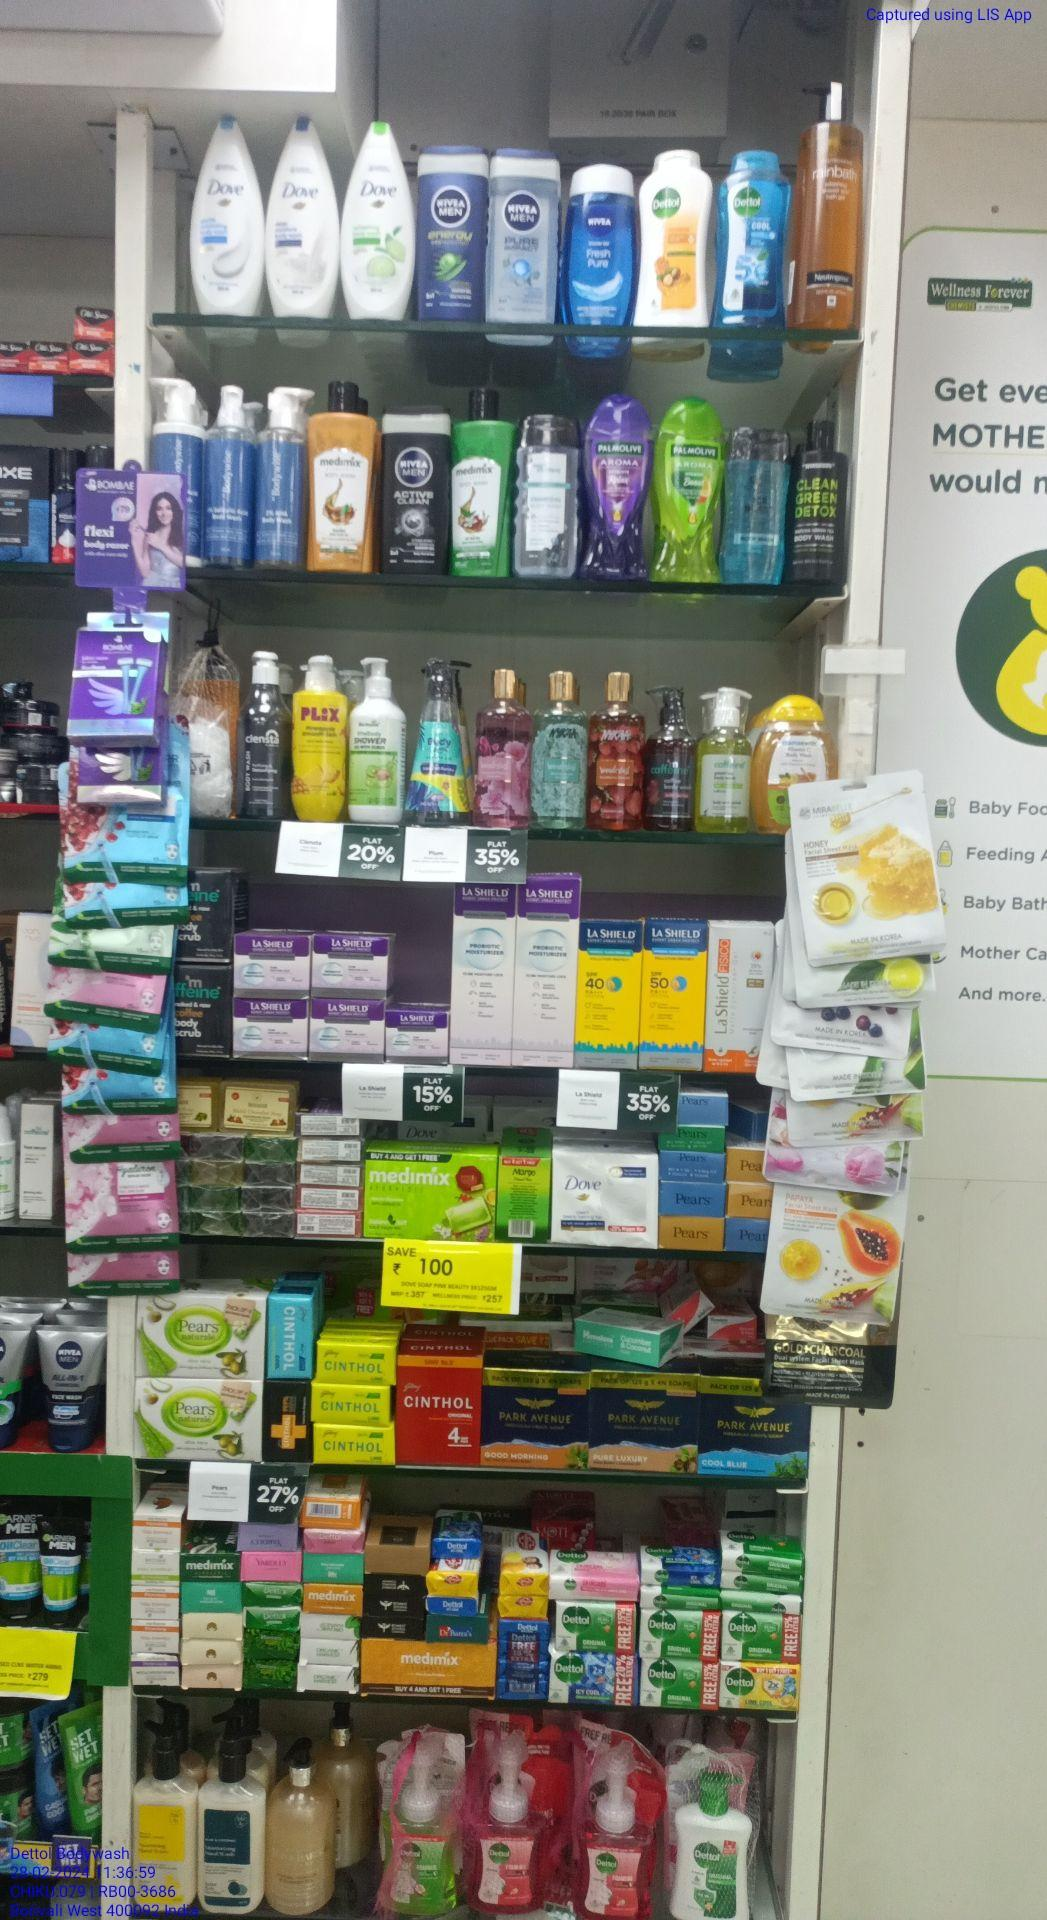Dettol_Bodywash_Cool: (718, 146, 789, 331)
Dettol_Nourish_Body_Wash_250ML: (637, 148, 709, 329)
Dove_Deep_Moisture_Body_Wash_250ML: (266, 115, 339, 322)
Dove_Gentle_Exfoliating_Body_Wash_250ML: (192, 110, 262, 317)
Dove_Refreshing_Body_Wash_250ML: (346, 117, 416, 324)
Nivea_Shower_Gel_Lemon_and_Oil_250ML: (656, 395, 719, 585)
Palmolive_Aroma_Relax_250ML: (584, 391, 649, 582)
